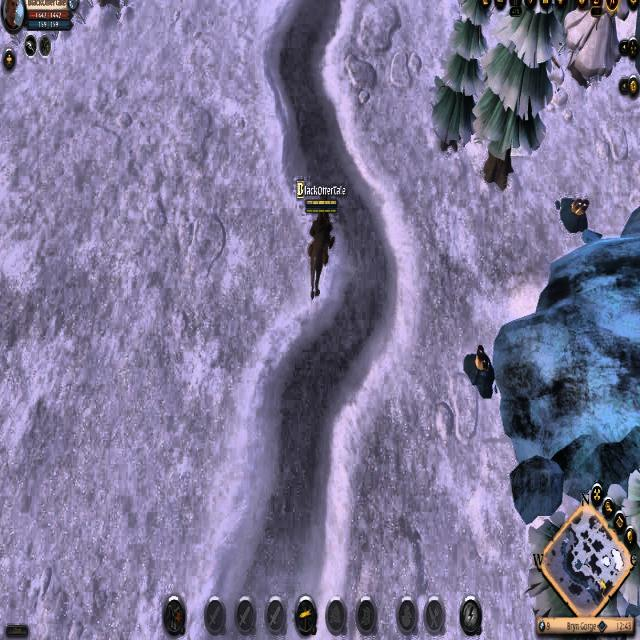copperore: (462, 338, 497, 398), (555, 188, 590, 234)
